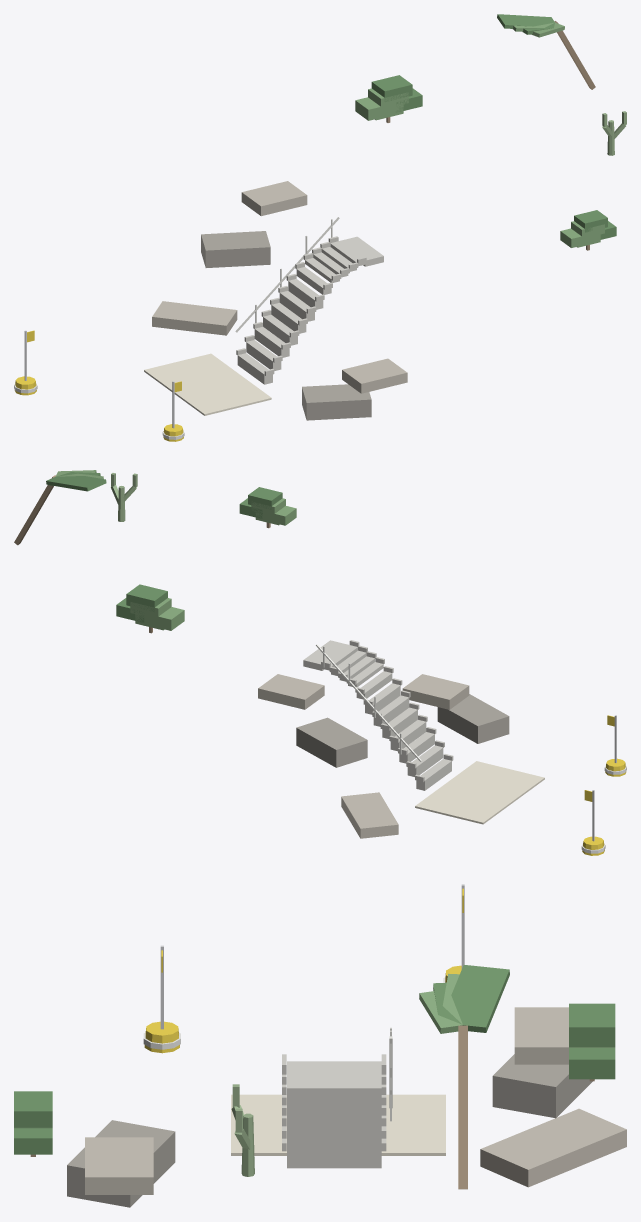
File: nw_boca.glb
3 renders of one model, top to bottom at view 1: azimuth 30°, elevation 25°; view 2: azimuth 150°, elevation 25°; view 3: azimuth 270°, elevation 25°, orthographic. The views are drawn at different scales.
Parts seen in each view (by area): view 1: nw_boca_lod0; view 2: nw_boca_lod0; view 3: nw_boca_lod0.
Part boxes in pixels (x1,y1,x2,y2): nw_boca_lod0: [14, 14, 626, 441]; nw_boca_lod0: [14, 470, 626, 855]; nw_boca_lod0: [14, 884, 626, 1207].
Size of what is drawn, in the model's own units: 27.58 by 11.55 by 14.26.
